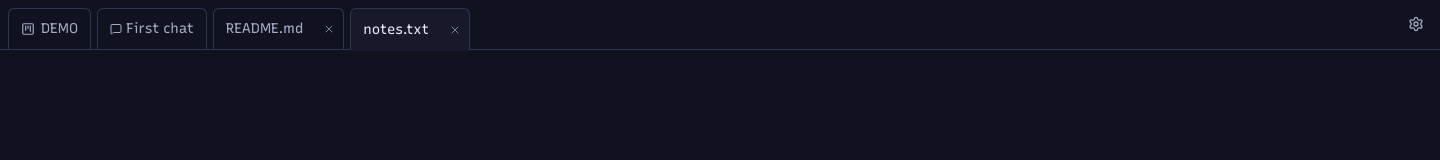
Test: tab strip - file-tab context menu and middle click (spec Behaviour 20-21) › right click opens the context menu; Copy Relative Path copies and closes it
The width and height of the screenshot is (1440, 160).
Right-click the element with test id "tab-file-notes.txt": (410,29) [350,8,470,50]
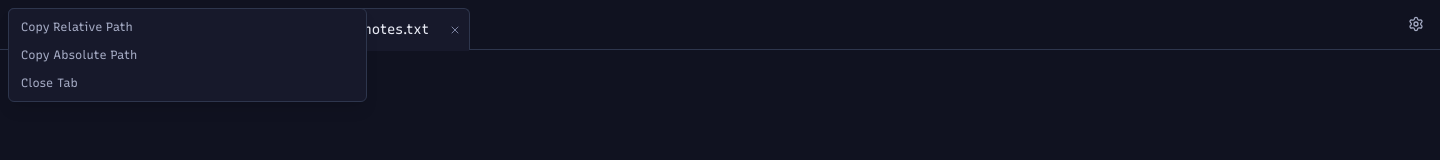
Expected: the element with test id "tab-context-menu" is shown, [8,8,367,102]
Click the menu item with test id "tab-context-copy-relative": (77,27) [9,13,366,41]
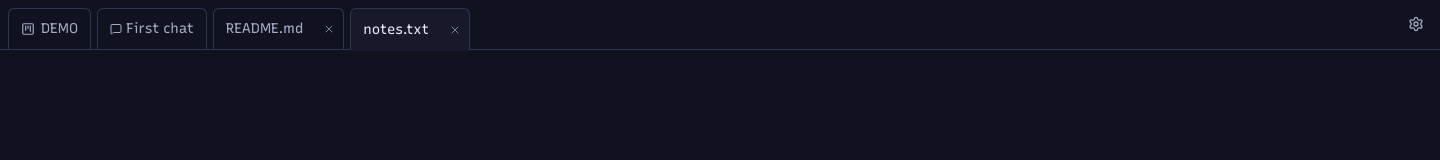
Expected: the element with test id "tab-context-menu" is gone
